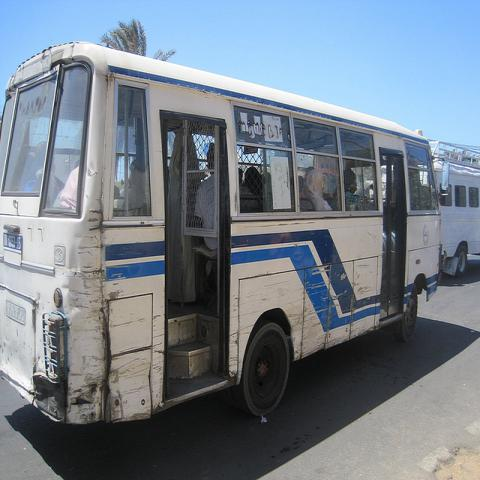bus: (1, 41, 443, 428), (430, 139, 480, 279)
